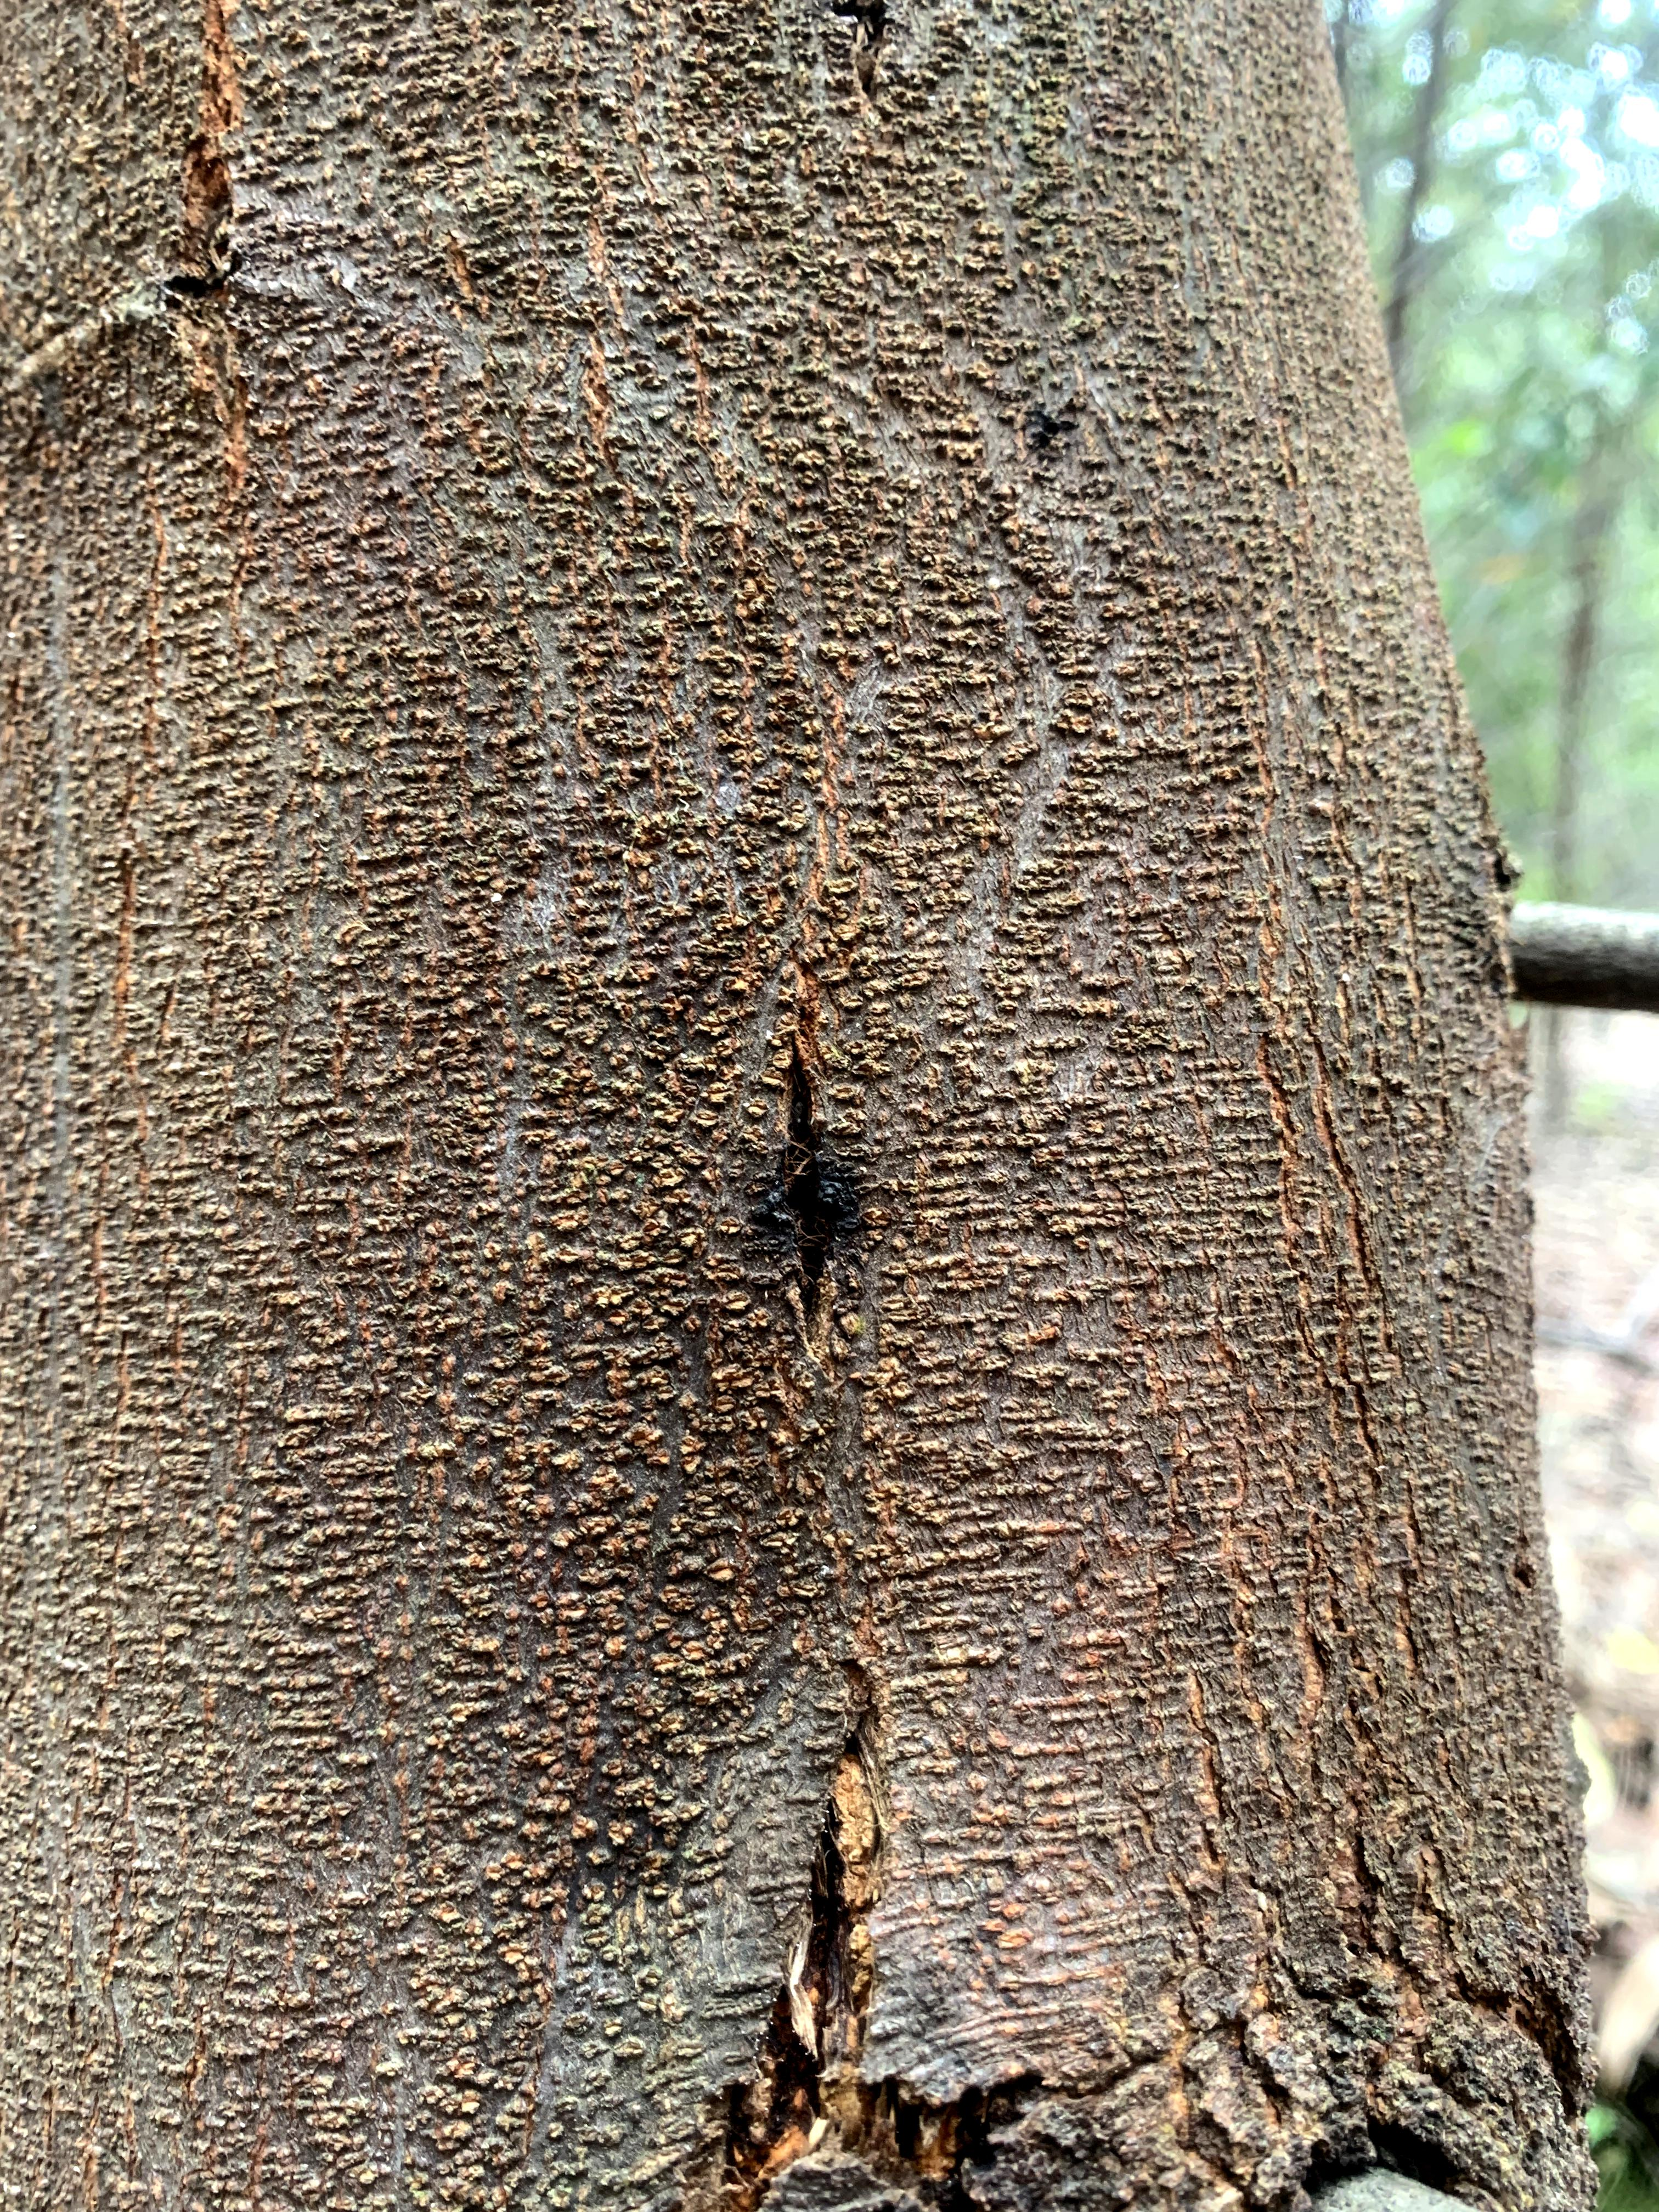Stem Borer: (676, 934, 946, 1369)
